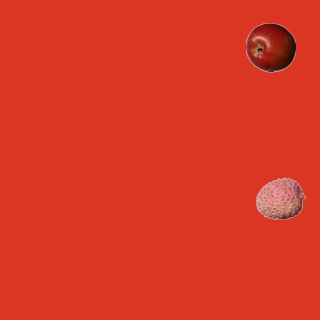Apple Braeburn: (245, 22, 295, 72)
Lychee: (255, 173, 305, 223)
